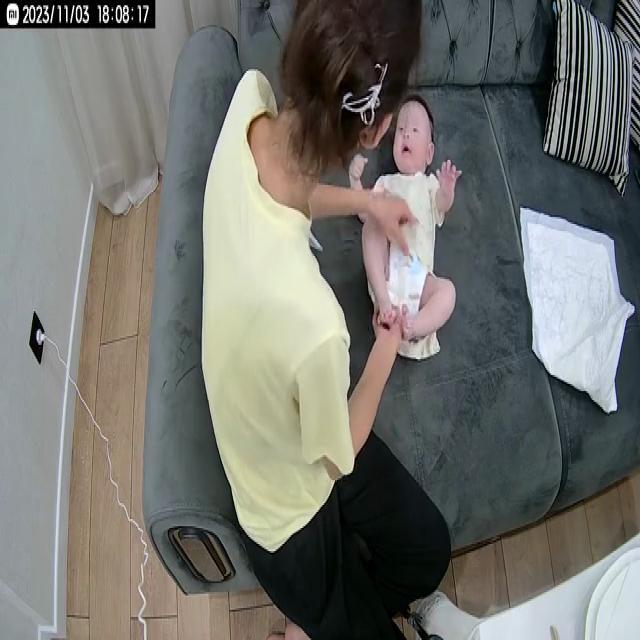baby: (346, 92, 466, 360)
